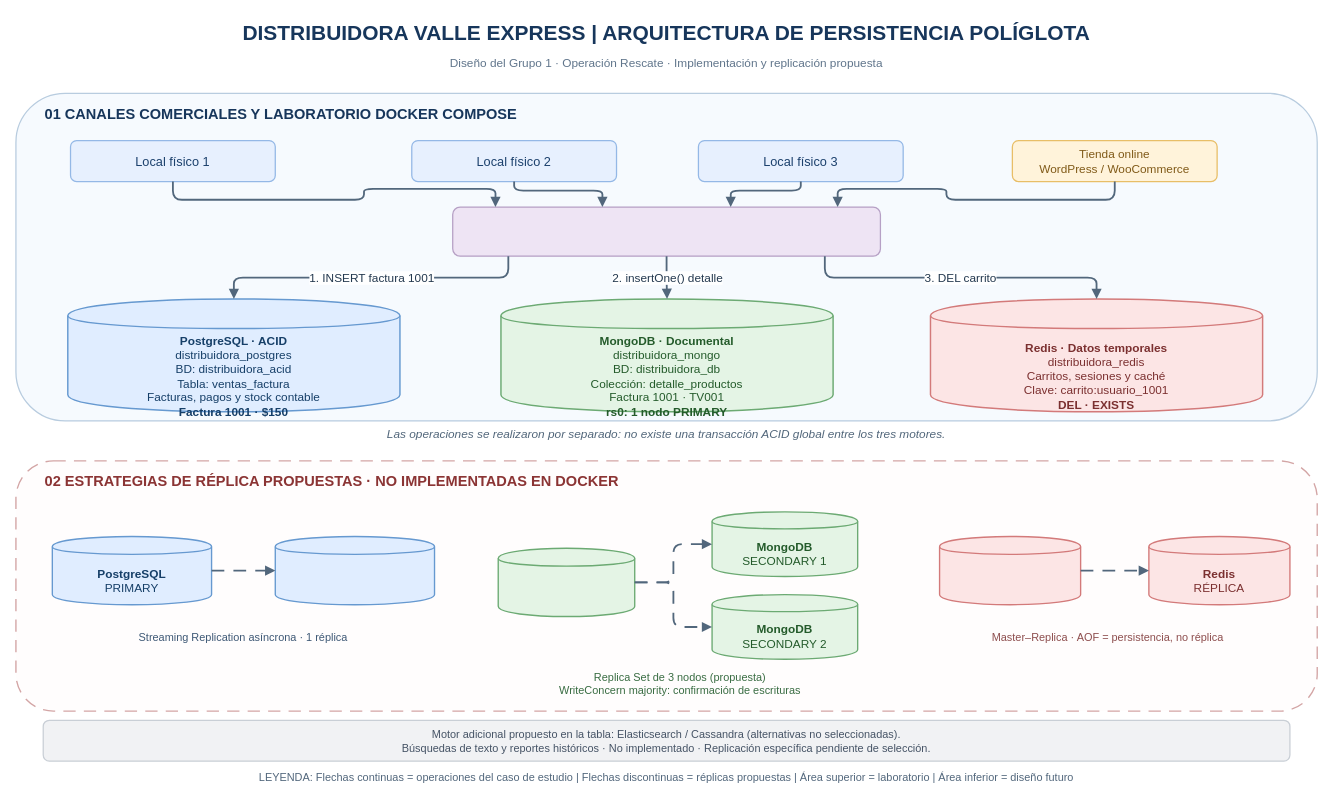
This 1334x804 diagram has some shape labels left out. Each missing label, with the centre of its shape:
MongoDB PRIMARY: (566,582)
Operaciones de venta y consulta Bloque conceptual (no desplegado): (666,231)
PostgreSQL RÉPLICA: (354,570)
Redis MASTER: (1009,570)
